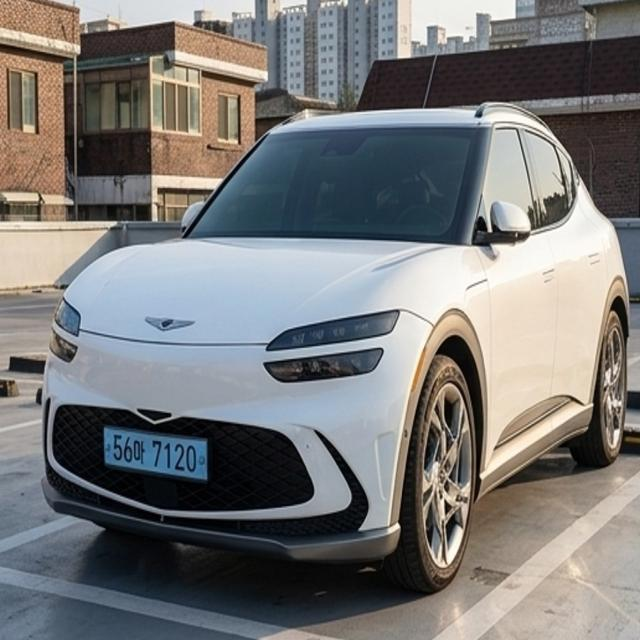car: (91, 415, 235, 487)
carev: (196, 438, 212, 482), (97, 427, 113, 470)
